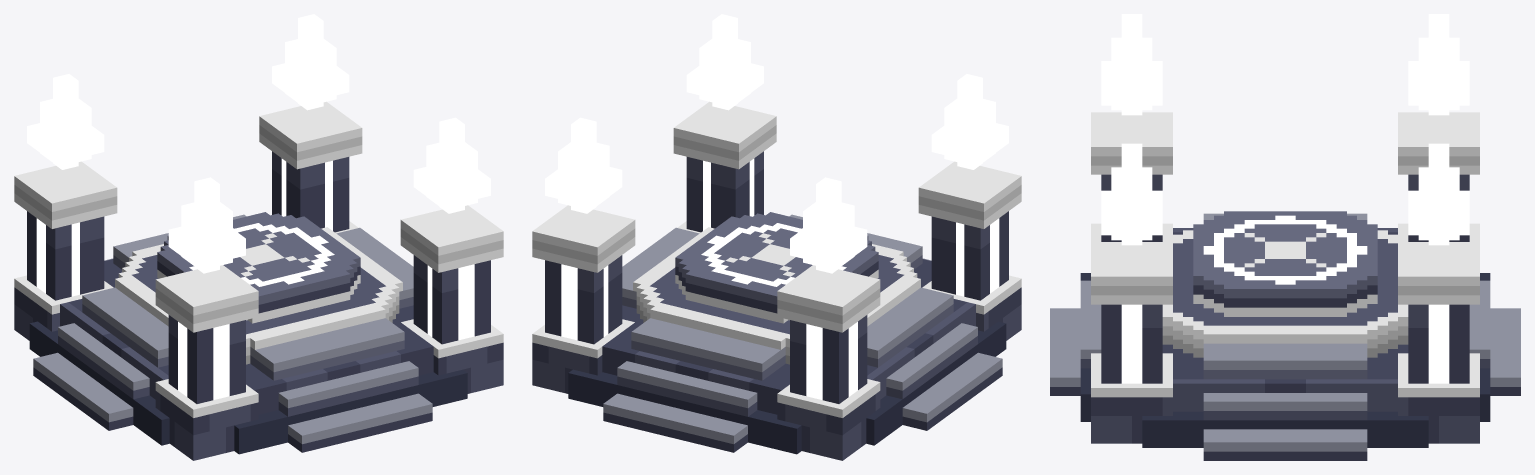
File: altar_pilot.glb
3 views of the same model, side by side, from view 1: azimuth 30°, elevation 25°; view 2: azimuth 150°, elevation 25°; view 3: azimuth 270°, elevation 25° (orthographic). The views are drawn at different scales.
Visible parts, largest first — view 1: AltarStone, AltarTrim, AltarGlow; view 2: AltarStone, AltarTrim, AltarGlow; view 3: AltarStone, AltarTrim, AltarGlow.
Boxes of the visible parts, x1,y1,x2,y2 form: AltarStone: (14,151,503,460); AltarTrim: (14,101,503,417); AltarGlow: (27,14,490,399); AltarStone: (532,151,1021,460); AltarTrim: (532,101,1021,417); AltarGlow: (545,14,1008,399); AltarStone: (1050,174,1520,460); AltarTrim: (1091,112,1479,397); AltarGlow: (1101,14,1469,383).
Size of the model in its own units: 18.4 by 12 by 18.4.
